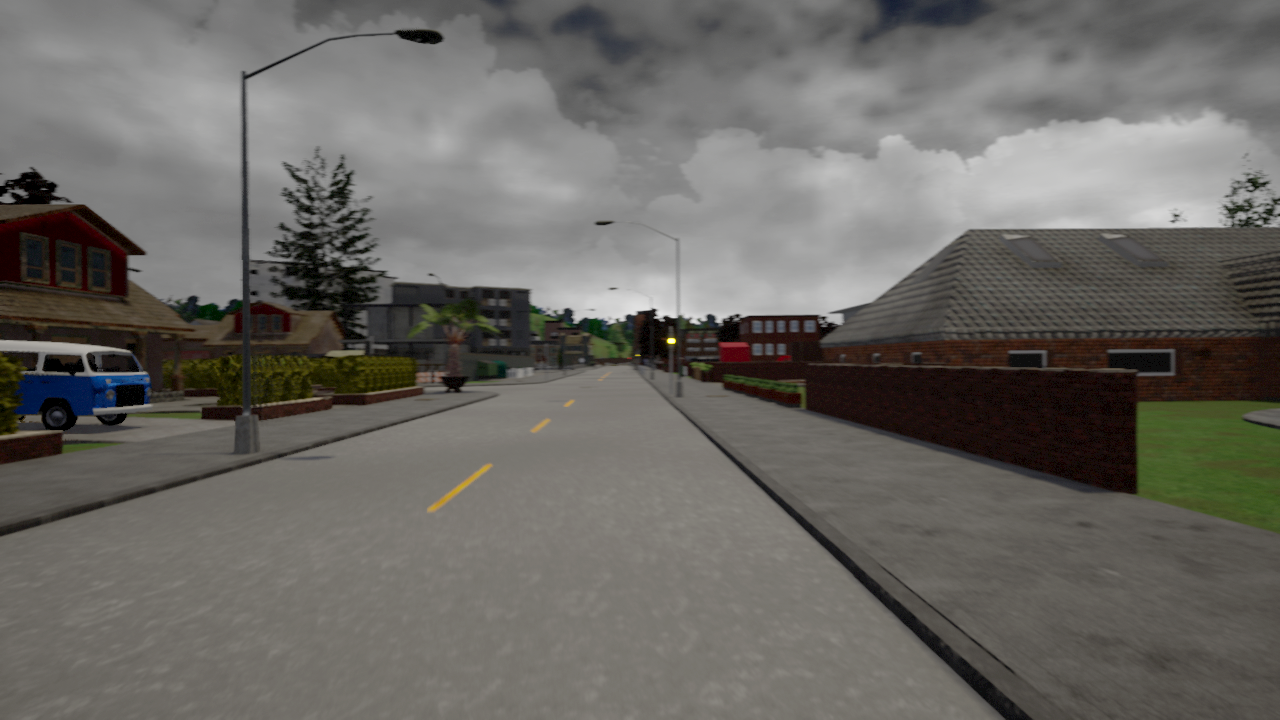yellow: (666, 329, 677, 350)
